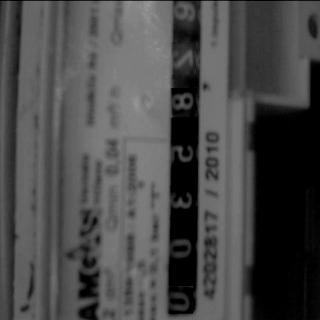1: (167, 286, 194, 313), (168, 236, 193, 260)
3: (172, 42, 197, 74)
4: (170, 186, 198, 215)
6: (171, 139, 198, 165)
9: (171, 88, 198, 117)
object: (173, 1, 198, 27)
